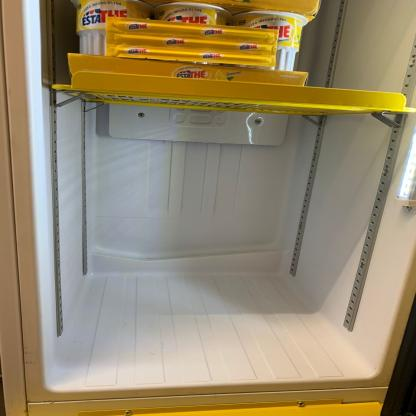pot: (247, 13, 304, 73), (80, 1, 125, 59)
